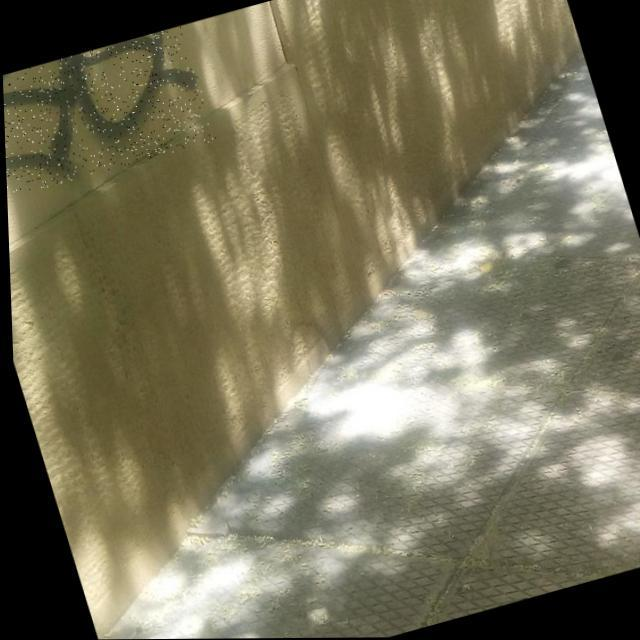-: (1, 25, 217, 208)
